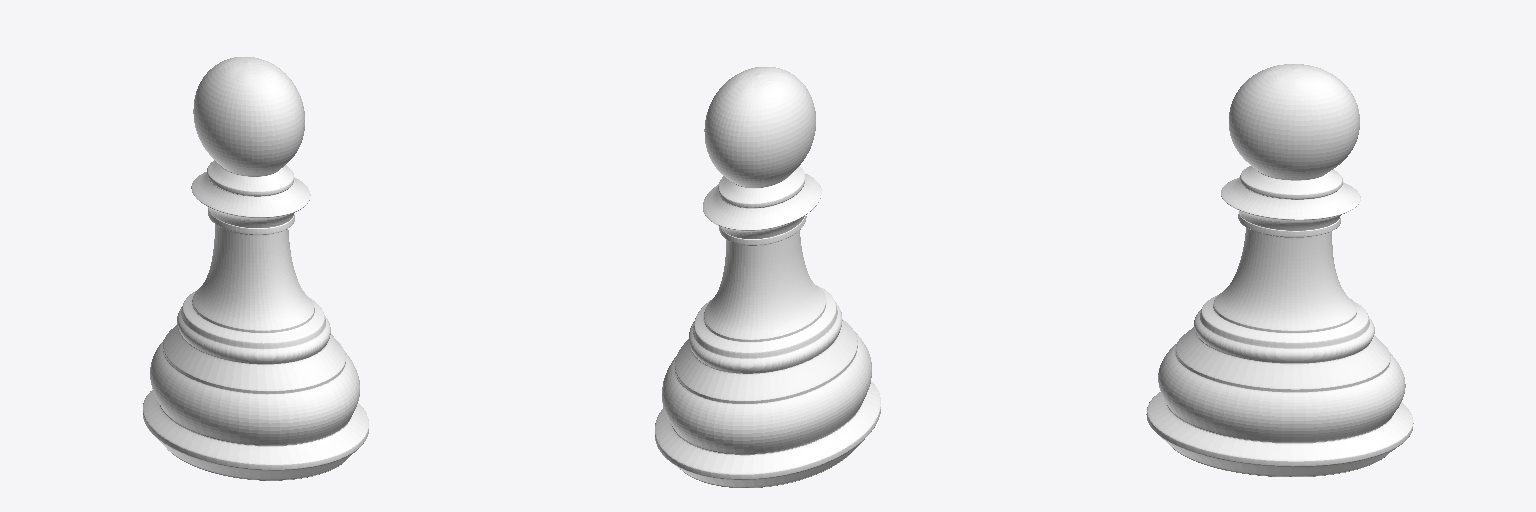
The model's file is piece.obj.
3 views of the same model, side by side, from view 1: azimuth 30°, elevation 25°; view 2: azimuth 150°, elevation 25°; view 3: azimuth 270°, elevation 25° (orthographic).
Visible parts, largest first — view 1: 12931_WoodenChessPawnSideA; view 2: 12931_WoodenChessPawnSideA; view 3: 12931_WoodenChessPawnSideA.
Boxes of the visible parts, <box> form: 12931_WoodenChessPawnSideA: <box>143,57,368,480</box>; 12931_WoodenChessPawnSideA: <box>655,67,880,487</box>; 12931_WoodenChessPawnSideA: <box>1146,64,1413,476</box>.
Bounding box in the file's own units: 0.2388 × 0.4656 × 0.3008.